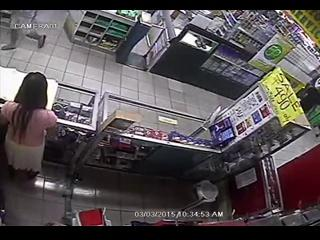Normal: (0, 71, 58, 186), (1, 10, 47, 50)
